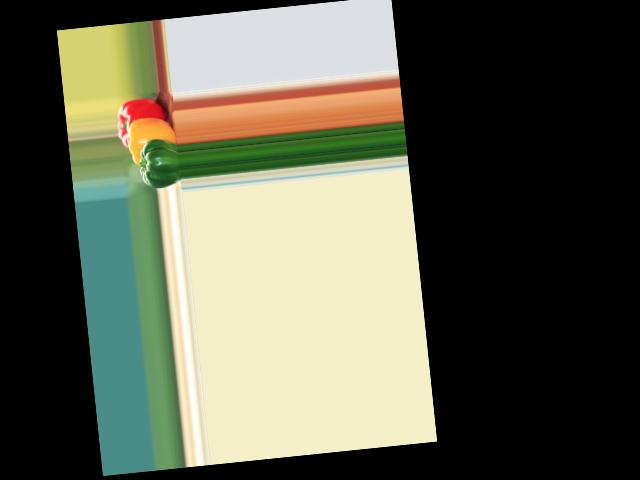bell_pepper: (115, 96, 175, 148)
